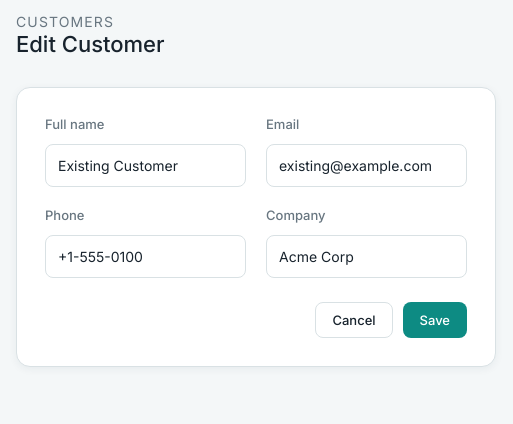
Test: CustomerEditView › shows an invalid-email error for a malformed email
Step 1. Replace the text in the field with id "customer-email" with "not-an-email" → [366, 165], box [266,144,467,187]
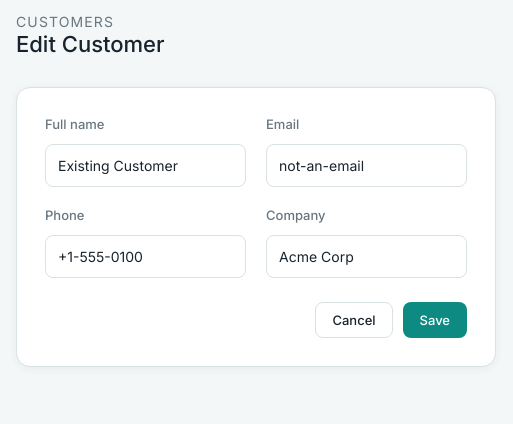
Step 2. Submit the form
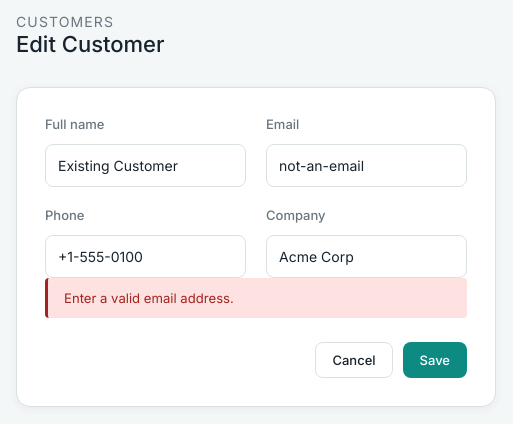
Expected: the message "Enter a valid email address." is shown, [45,278,467,318]
